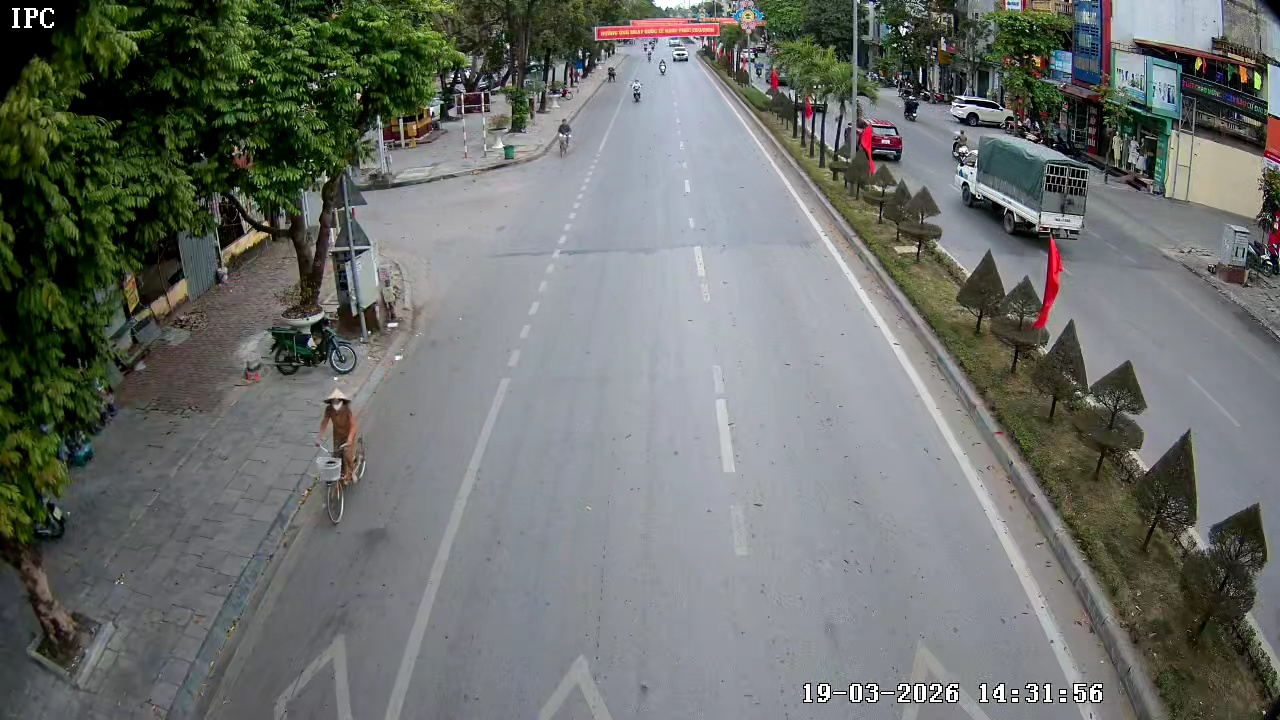bike: (313, 391, 368, 524)
car: (671, 46, 693, 62)
motorbike: (267, 318, 363, 377), (631, 78, 643, 102), (658, 60, 668, 77)
truck: (952, 127, 1088, 238)
